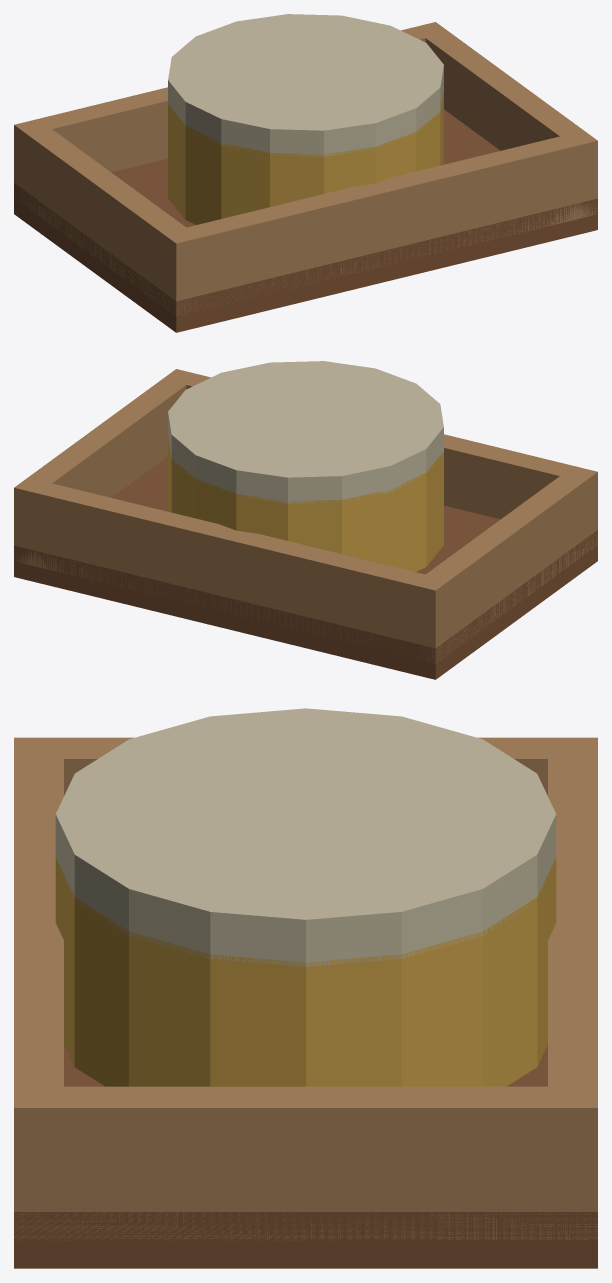
File: set_layer_cake.glb
The picture shows the model from 3 angles, top to bottom: view 1: azimuth 30°, elevation 25°; view 2: azimuth 150°, elevation 25°; view 3: azimuth 270°, elevation 25°; orthographic projection. The views are drawn at different scales.
Visible parts, largest first — view 1: set_layer_cake; view 2: set_layer_cake; view 3: set_layer_cake.
Part boxes in pixels (<box>): set_layer_cake: <box>14,14,597,332</box>; set_layer_cake: <box>14,361,597,679</box>; set_layer_cake: <box>14,708,597,1268</box>.
Size of the model in its own units: 0.42 by 0.1425 by 0.28.
